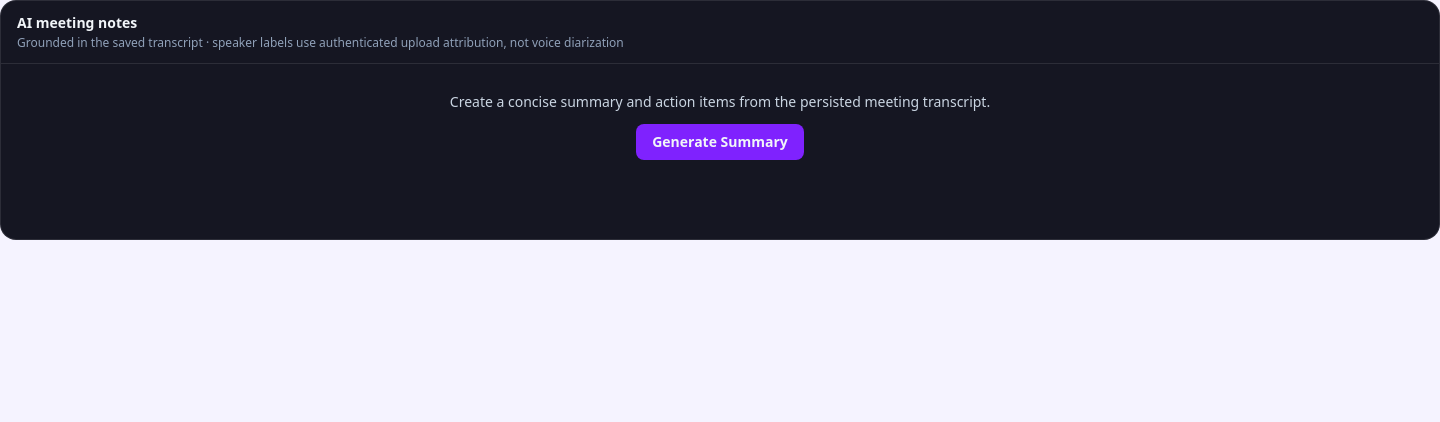
Test: MeetingNotesPanel › generates notes and reloads action items
The image size is (1440, 422).
Click the button "Generate Summary".
click(720, 142)  # box [636, 124, 804, 160]
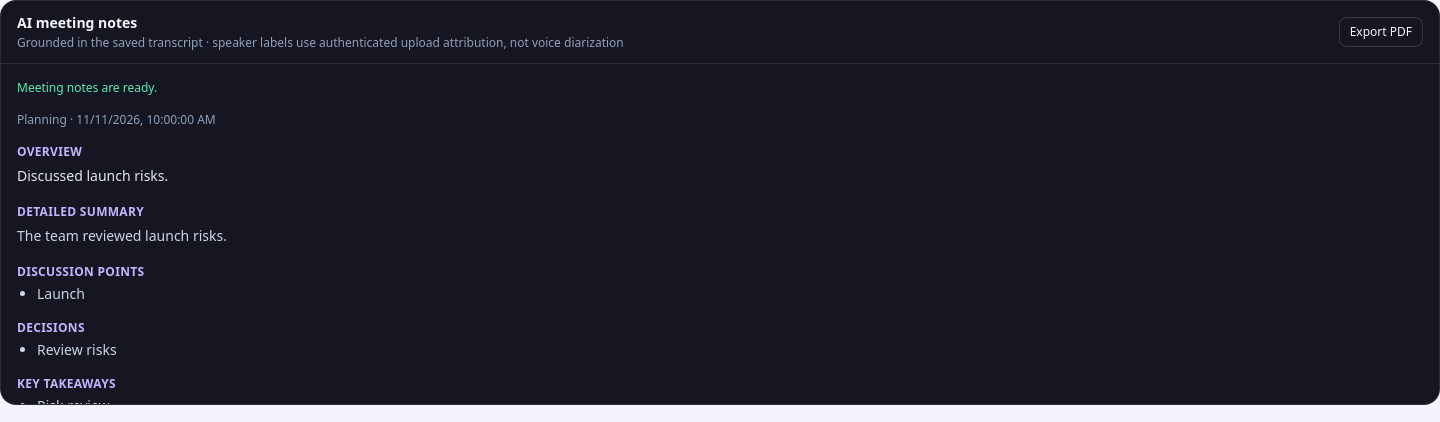
Result: the text "Discussed launch risks." is shown at [17, 166, 168, 185]
